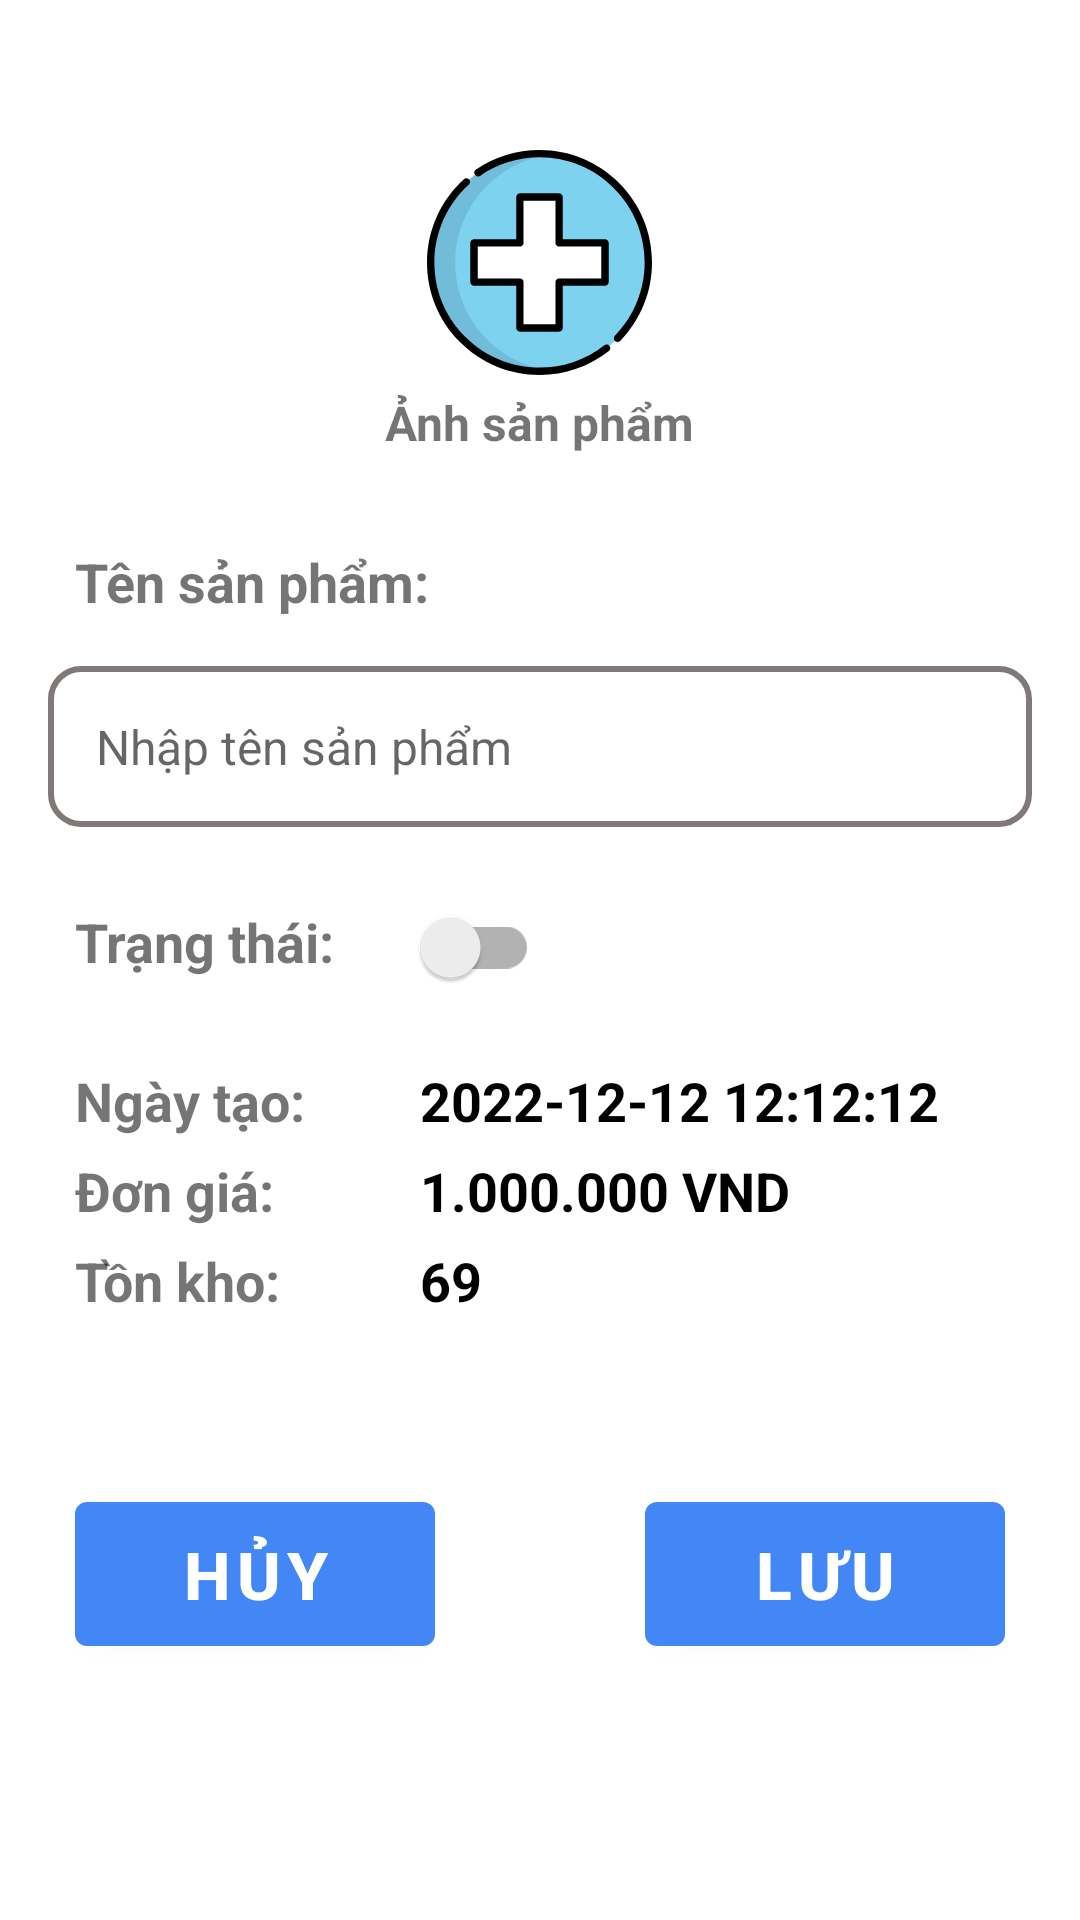

Icons on this 1080 × 1920 Android screen, each with its box as (x1, y1, x2, y2):
add plus: (427, 150, 652, 375)
